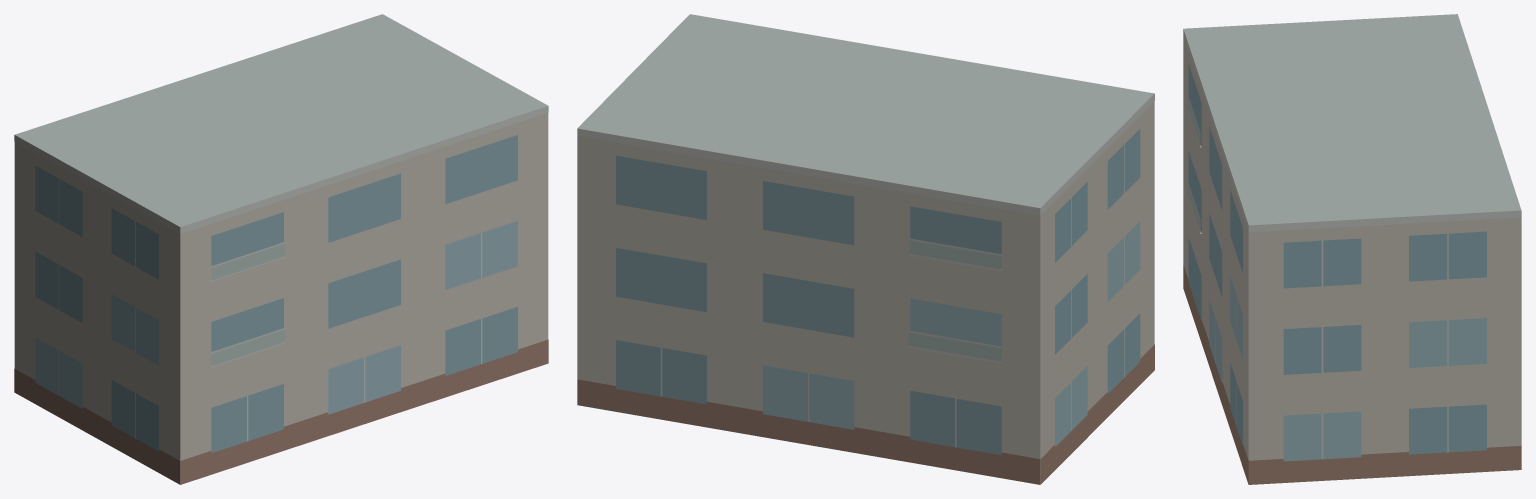
File: survey-upis-32868066.glb
The picture shows the model from 3 angles, left to right: view 1: azimuth 30°, elevation 25°; view 2: azimuth 150°, elevation 25°; view 3: azimuth 270°, elevation 25°; orthographic projection. The views are drawn at different scales.
Visible parts, largest first — view 1: survey-upis-32868066.tmp; view 2: survey-upis-32868066.tmp; view 3: survey-upis-32868066.tmp.
Part boxes in pixels (x1,y1,x2,y2): survey-upis-32868066.tmp: (14,14,548,484); survey-upis-32868066.tmp: (577,14,1154,484); survey-upis-32868066.tmp: (1183,14,1521,484).
Size of the model in its own units: 16 by 9.15 by 10.82.
